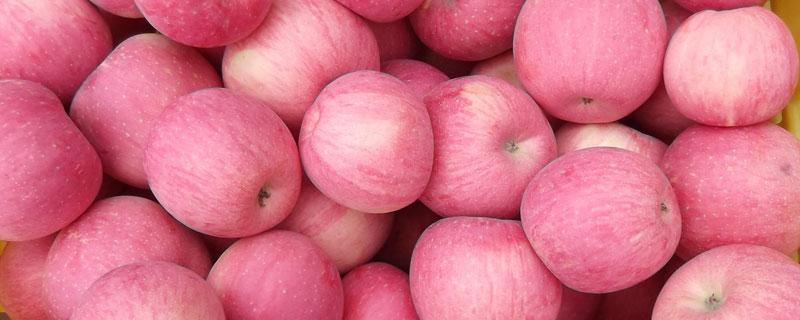apple: (139, 88, 304, 236), (522, 145, 683, 292), (412, 72, 559, 213), (299, 69, 434, 216), (42, 196, 212, 311), (513, 1, 669, 125), (221, 1, 383, 117), (652, 123, 787, 257), (661, 5, 798, 135), (1, 77, 103, 244), (411, 215, 565, 315), (207, 232, 347, 320), (1, 1, 114, 102), (651, 246, 799, 317), (415, 1, 524, 63)
